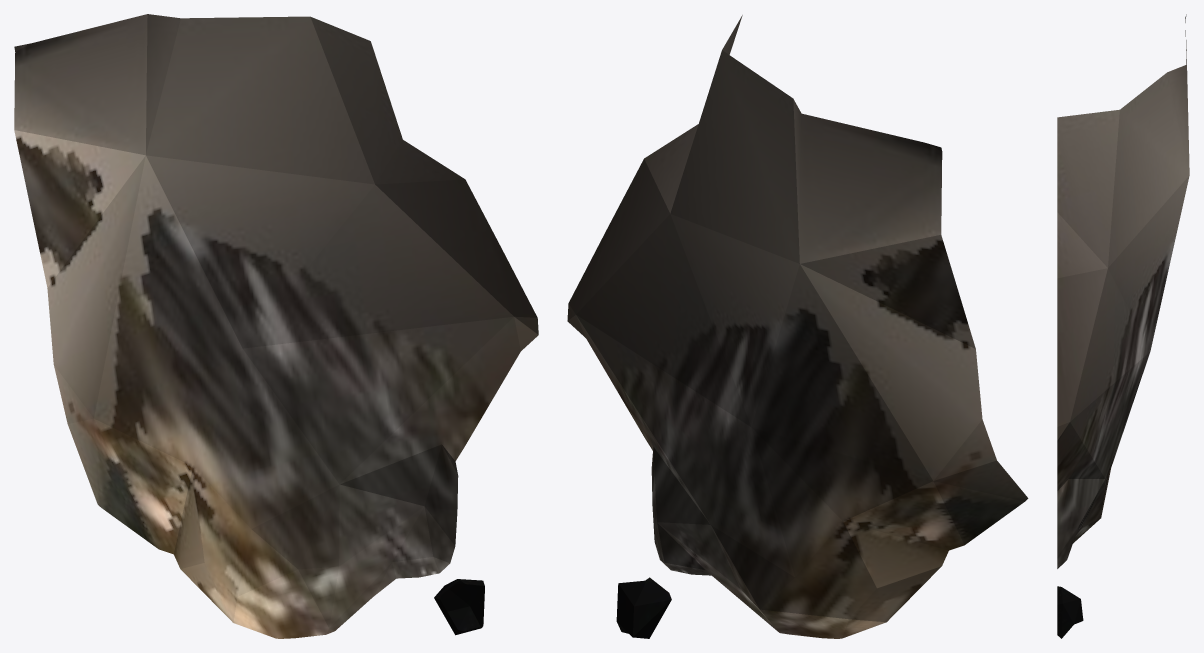
3 renders of one model, left to right at view 1: azimuth 30°, elevation 25°; view 2: azimuth 150°, elevation 25°; view 3: azimuth 270°, elevation 25°, orthographic. The views are drawn at different scales.
Bounding box in the file's own units: 1.64 × 2.19 × 0.5492.
1 material, 1 textured.
